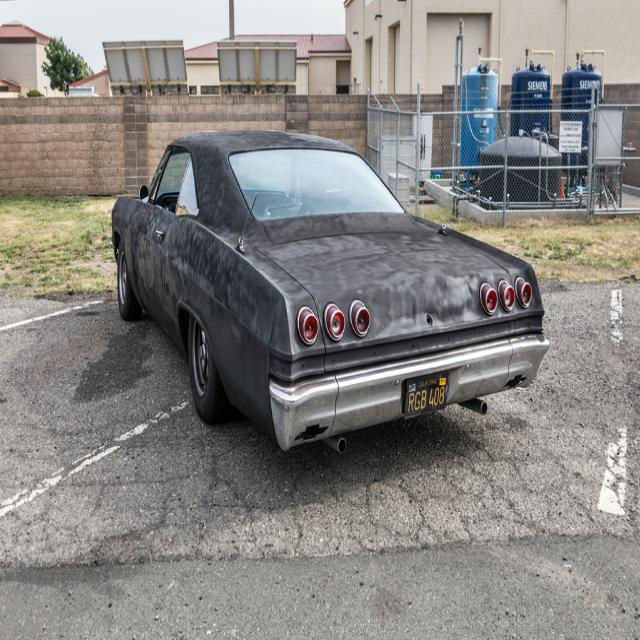car: (107, 136, 534, 449)
